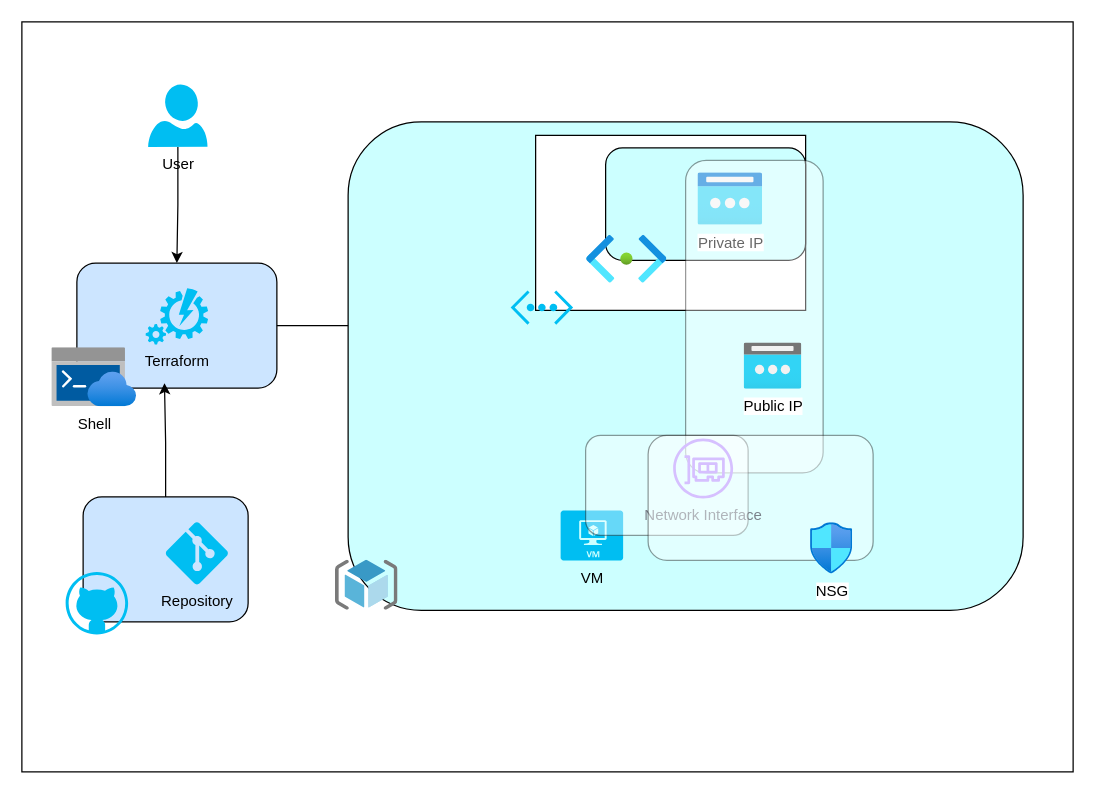
Some shapes in this 1095 by 794 pixel diagram are drawn without their labels. Here are the shapes that lost their labels. From the top down, the centre of each, then its label:
point 626,259: Subnet
point 541,307: Virtual network
point 96,602: GitHub
point 366,585: Resource group
